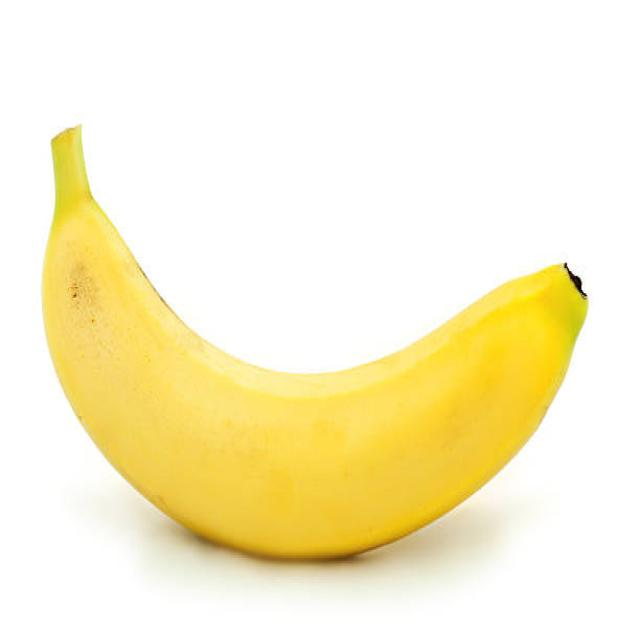Ripe: (39, 115, 592, 568)
